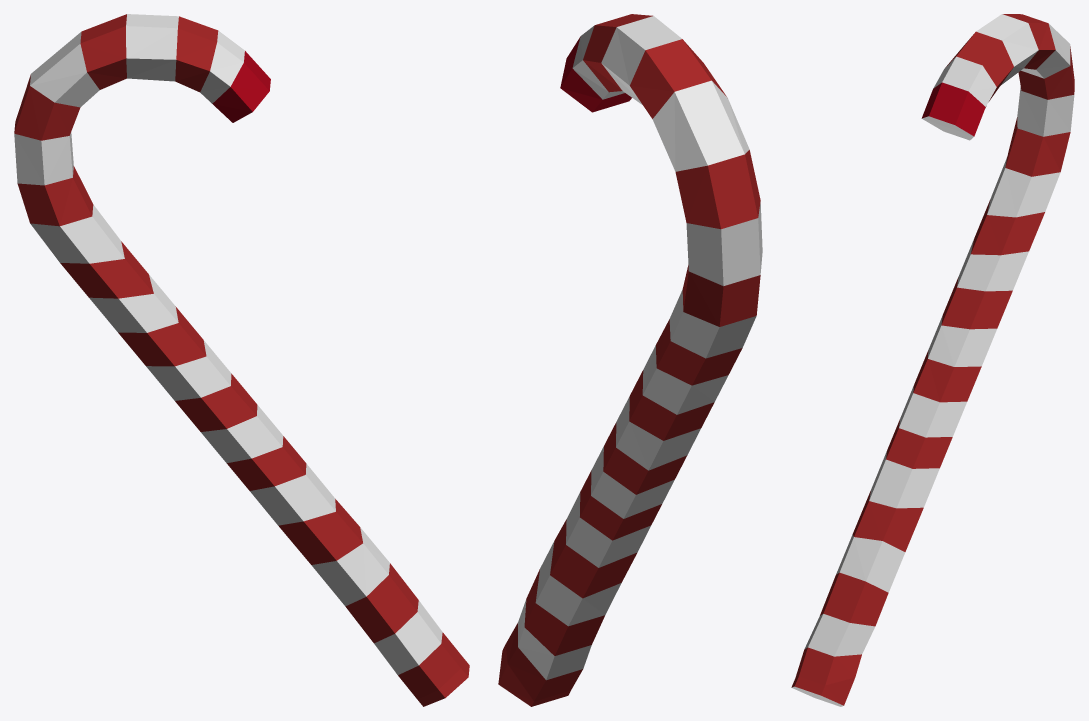
File: Santa_Claus_Magic_wand.fbx
The picture shows the model from 3 angles, left to right: view 1: azimuth 30°, elevation 25°; view 2: azimuth 150°, elevation 25°; view 3: azimuth 270°, elevation 25°; orthographic projection. The views are drawn at different scales.
Visible parts, largest first — view 1: Santa__Claus_Magic_wand; view 2: Santa__Claus_Magic_wand; view 3: Santa__Claus_Magic_wand.
Part boxes in pixels (x1,y1,x2,y2): Santa__Claus_Magic_wand: [14, 14, 469, 706]; Santa__Claus_Magic_wand: [498, 14, 762, 706]; Santa__Claus_Magic_wand: [791, 14, 1074, 706].
Bounding box in the file's own units: 47.06 × 89.05 × 38.17.
